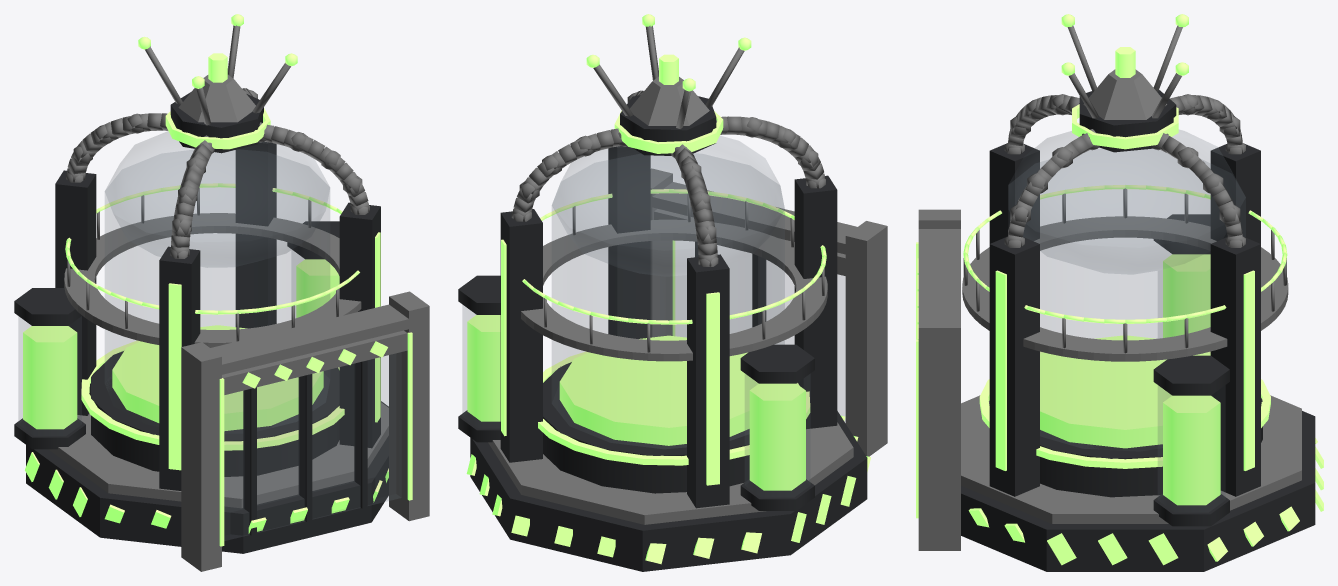
File: MonsterVat_BLOOM.glb
3 views of the same model, side by side, from view 1: azimuth 30°, elevation 25°; view 2: azimuth 150°, elevation 25°; view 3: azimuth 270°, elevation 25° (orthographic). The views are drawn at different scales.
Parts seen in each view (by area): view 1: MonsterVat_BLOOM, MonsterVat_BLOOM_Gate; view 2: MonsterVat_BLOOM, MonsterVat_BLOOM_Gate; view 3: MonsterVat_BLOOM.
Part boxes in pixels (bbox=[...]): MonsterVat_BLOOM: bbox=[14, 14, 429, 571]; MonsterVat_BLOOM_Gate: bbox=[222, 330, 407, 540]; MonsterVat_BLOOM: bbox=[458, 14, 887, 571]; MonsterVat_BLOOM_Gate: bbox=[654, 209, 845, 422]; MonsterVat_BLOOM: bbox=[916, 14, 1323, 571].
Bounding box in the file's own units: 4.72 × 5.9 × 4.81.
